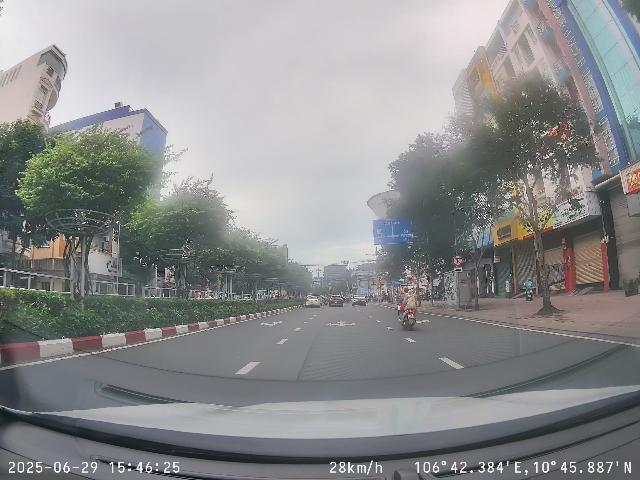137-cam-re-trai-va-re-phai: (452, 254, 463, 266)
